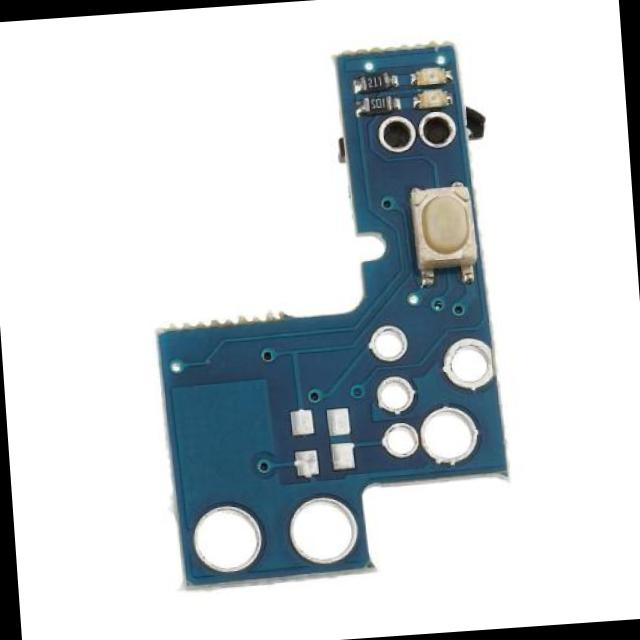LED: (410, 82, 460, 116), (412, 59, 451, 88)
resistor: (358, 90, 398, 118), (351, 70, 392, 94)
